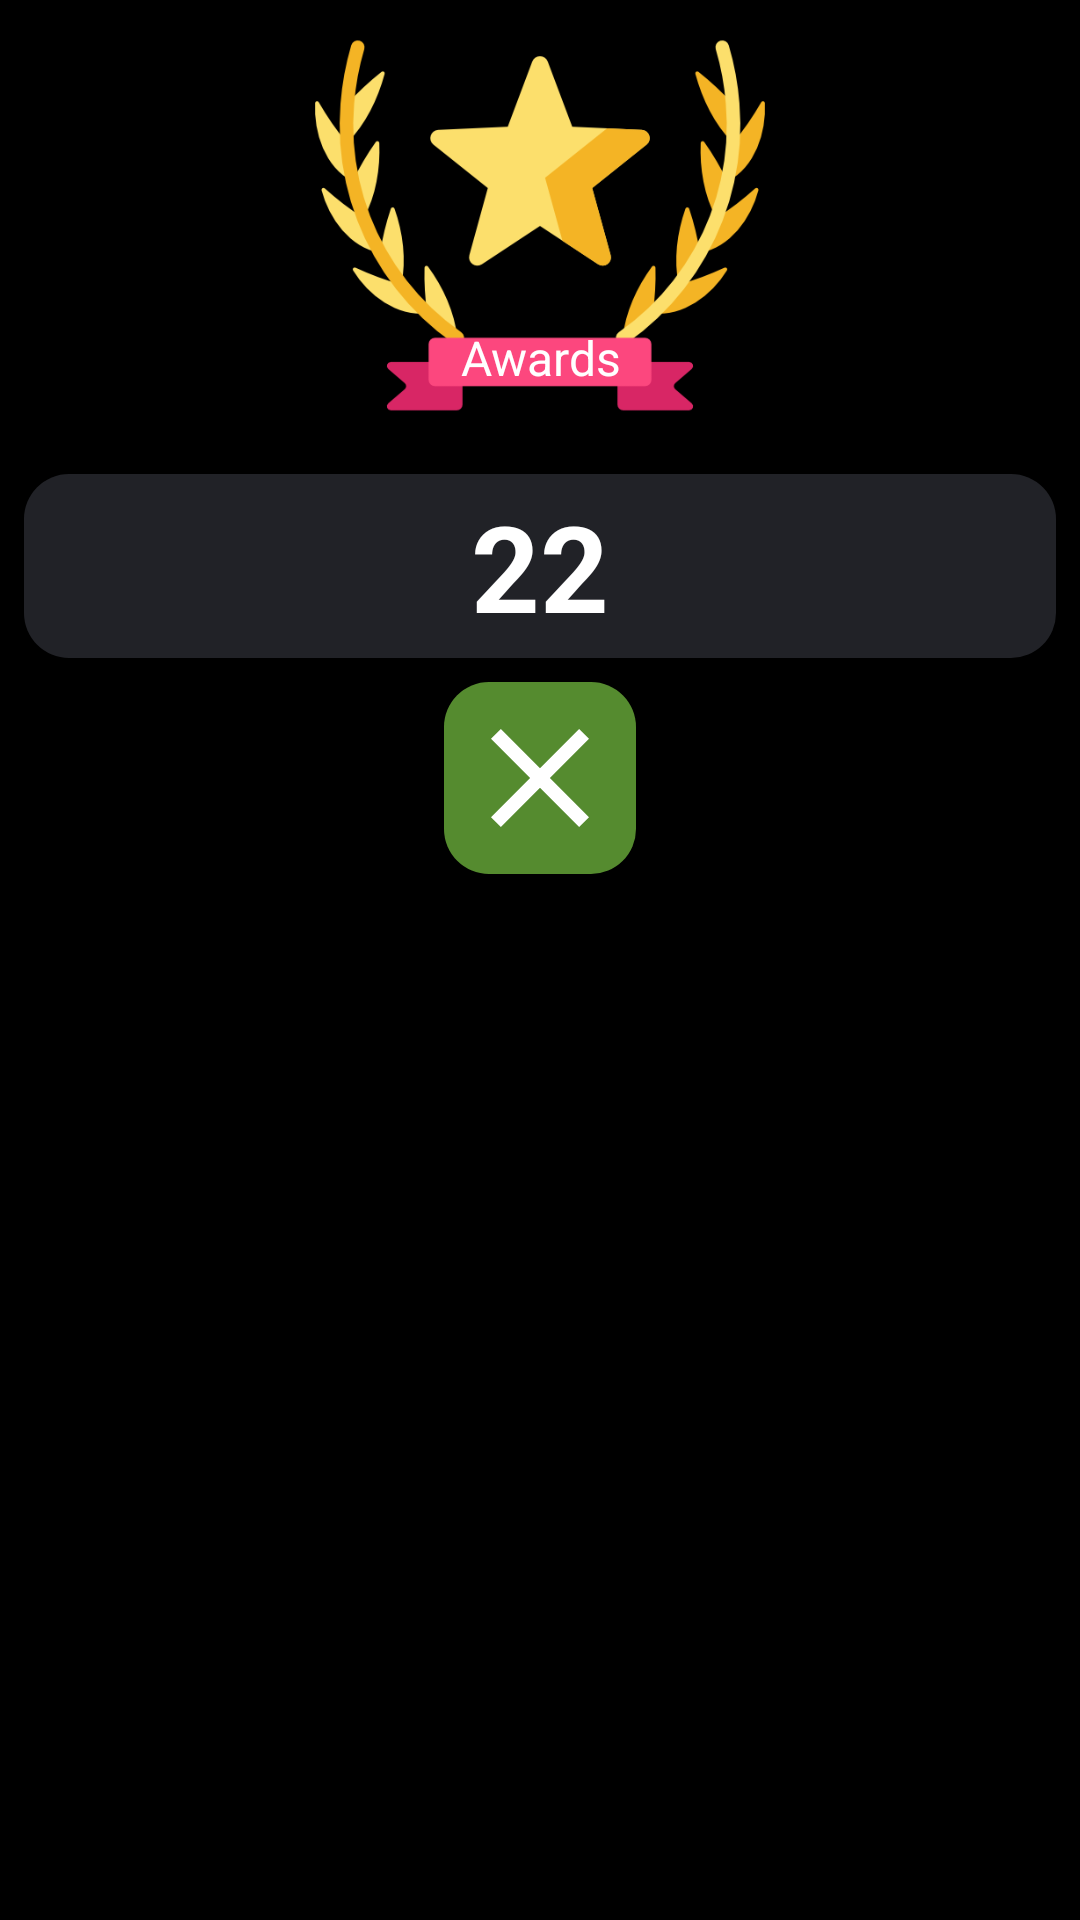

Icon bounding boxes for this 1080px×1920px phone screenshot, format (x1,y1,x2,y2):
close: (444,682,636,874)
